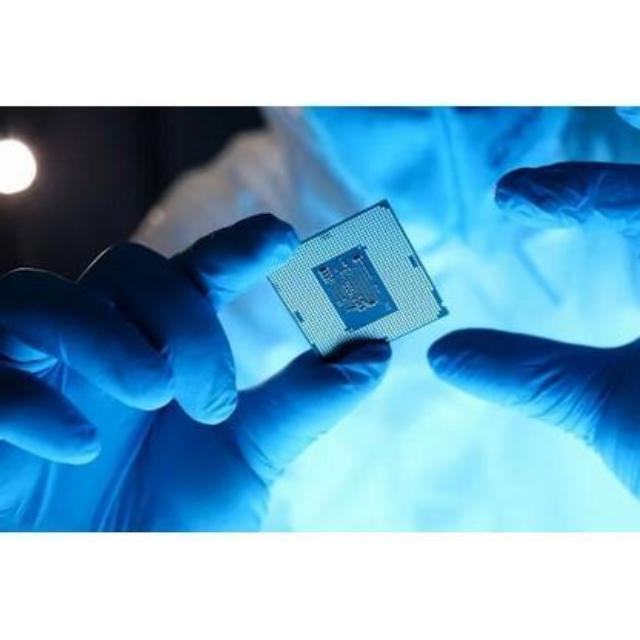CPU: (267, 196, 447, 362)
